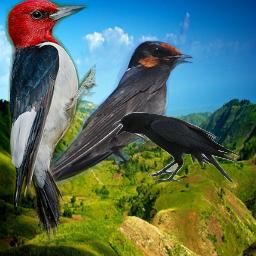Crow: (112, 112, 240, 183)
Swallow: (27, 40, 193, 186)
Woodpecker: (1, 0, 104, 248)
